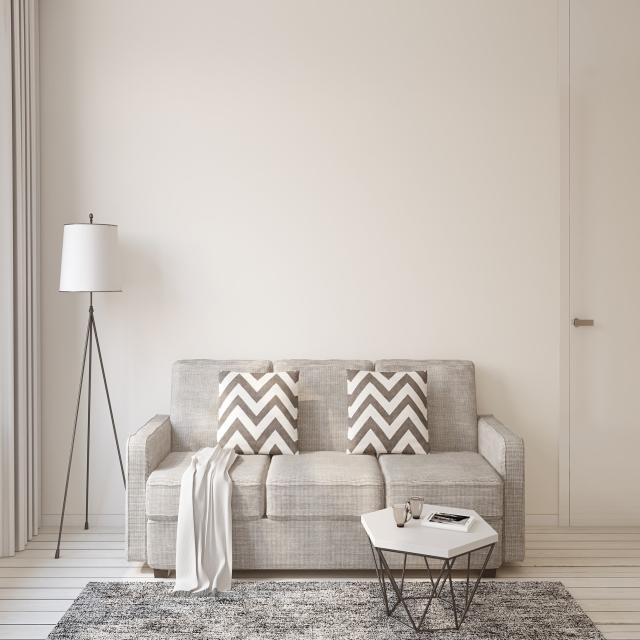white sofa: (130, 354, 528, 588)
